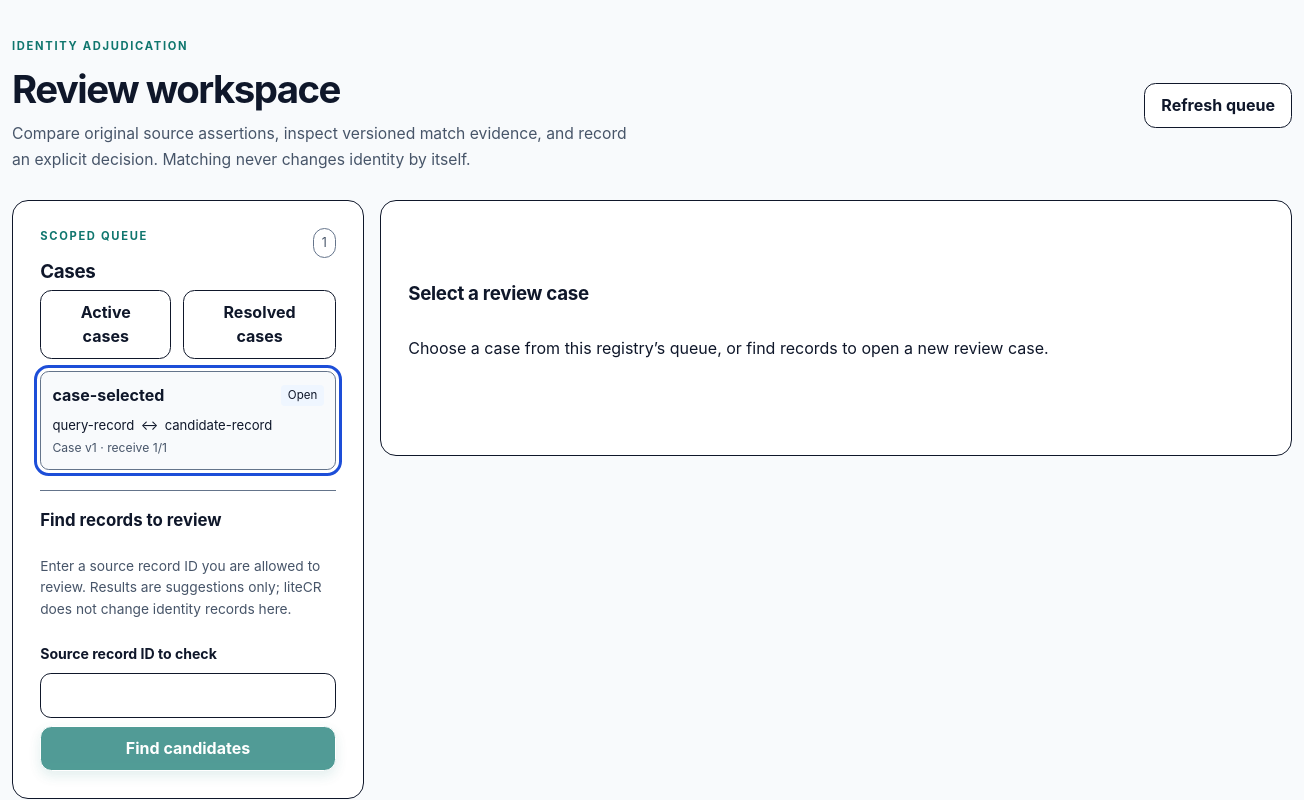
it: review case selection focus › moves focus to the selected case after its details load
The image size is (1304, 800).
Click the button with class "case-row": (188, 421) [40,371,336,470]
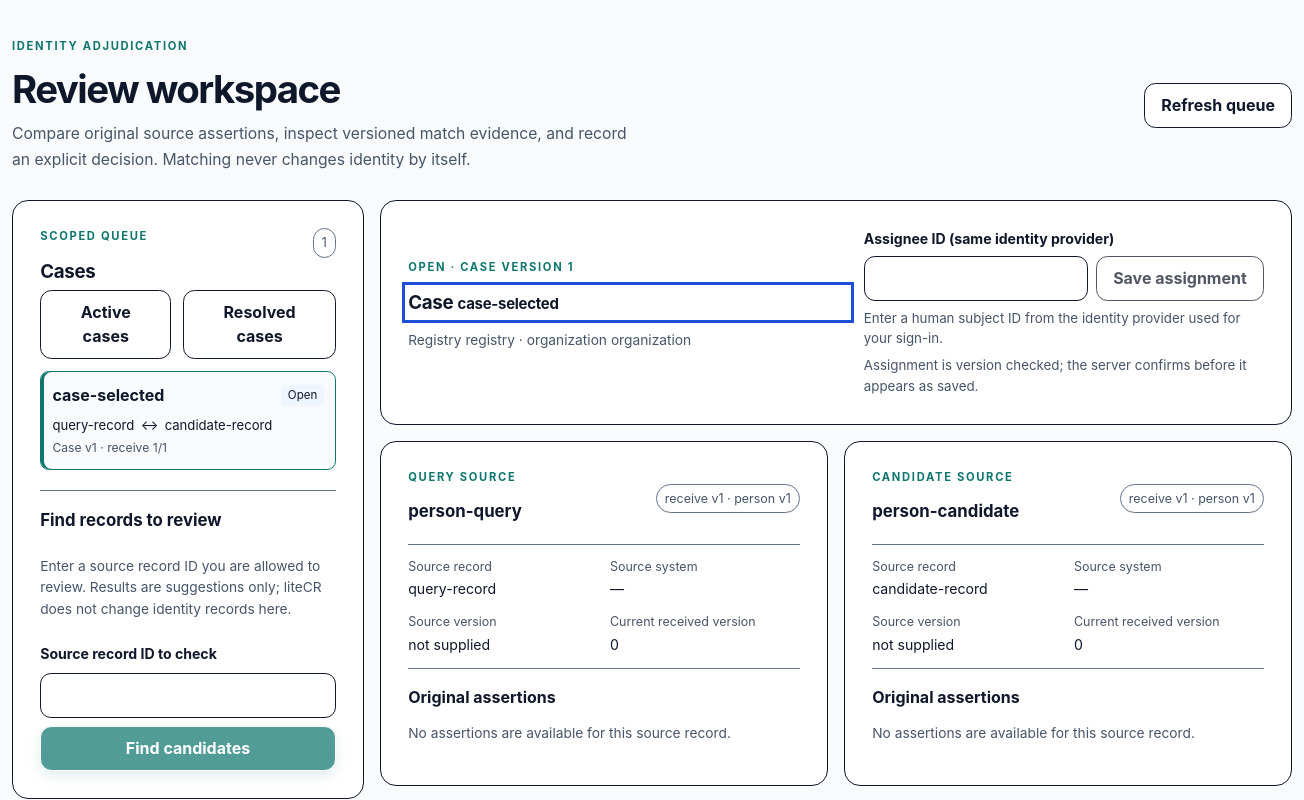
Expected: the heading with id "case-heading" shows "case-selected", [458,294,559,313]
